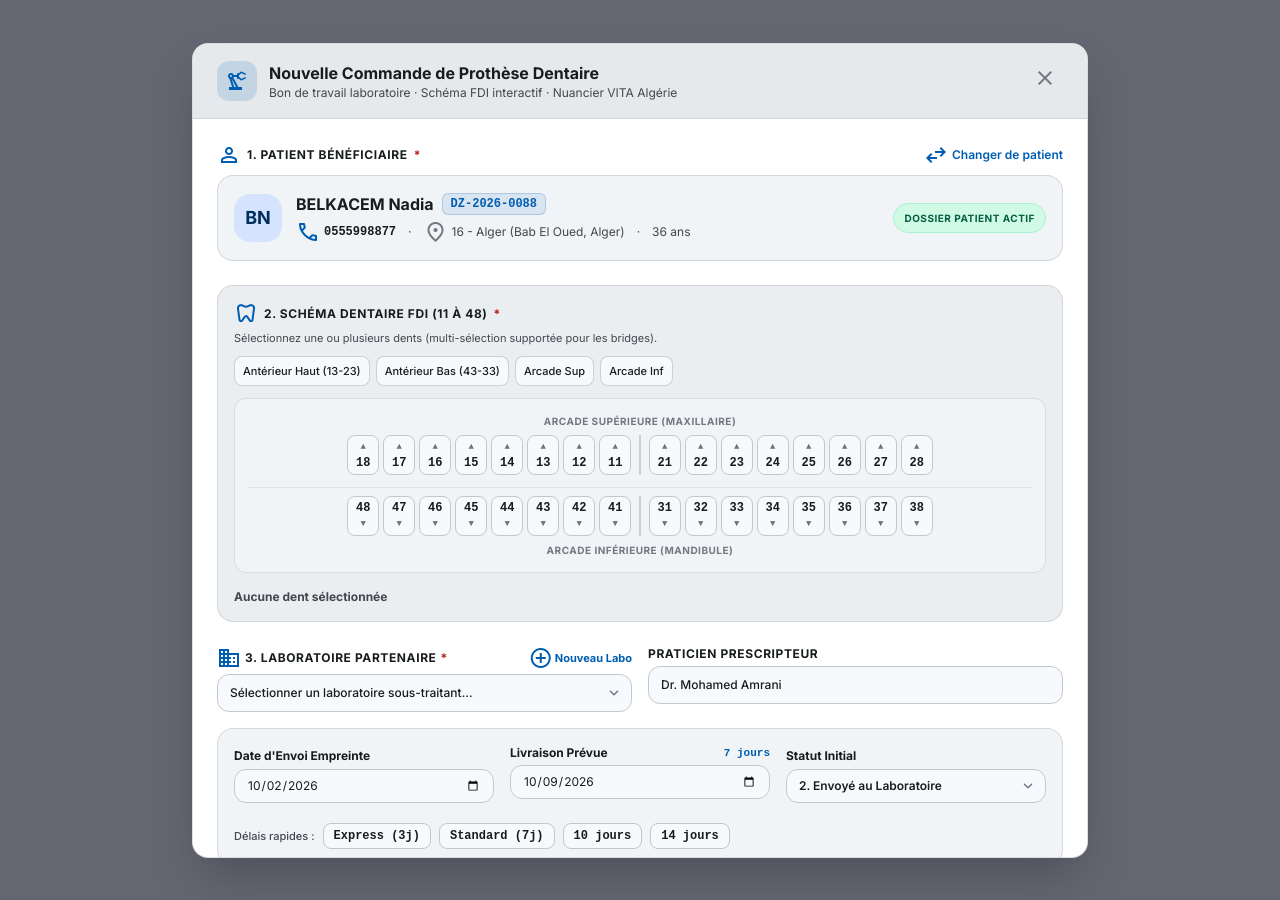
Test: Prompt 7: Prothesis Orders UX, FDI Tooth Selector, VITA Shade Guide & Auto Patient Retrieval › 2. Interactive FDI Tooth Selector (11-48) & Bridge Multi-Selection › allows selecting single tooth (e.g. 21) or multiple teeth (e.g. 14, 15, 16) for a bridge
Expected: the text "BELKACEM Nadia" is shown, [296,192,434,216]
// Click tooth 16
Click the button titled "Dent 16 (Cadran 1 - Haut Droit)": [435, 454] box [419,434,451,474]
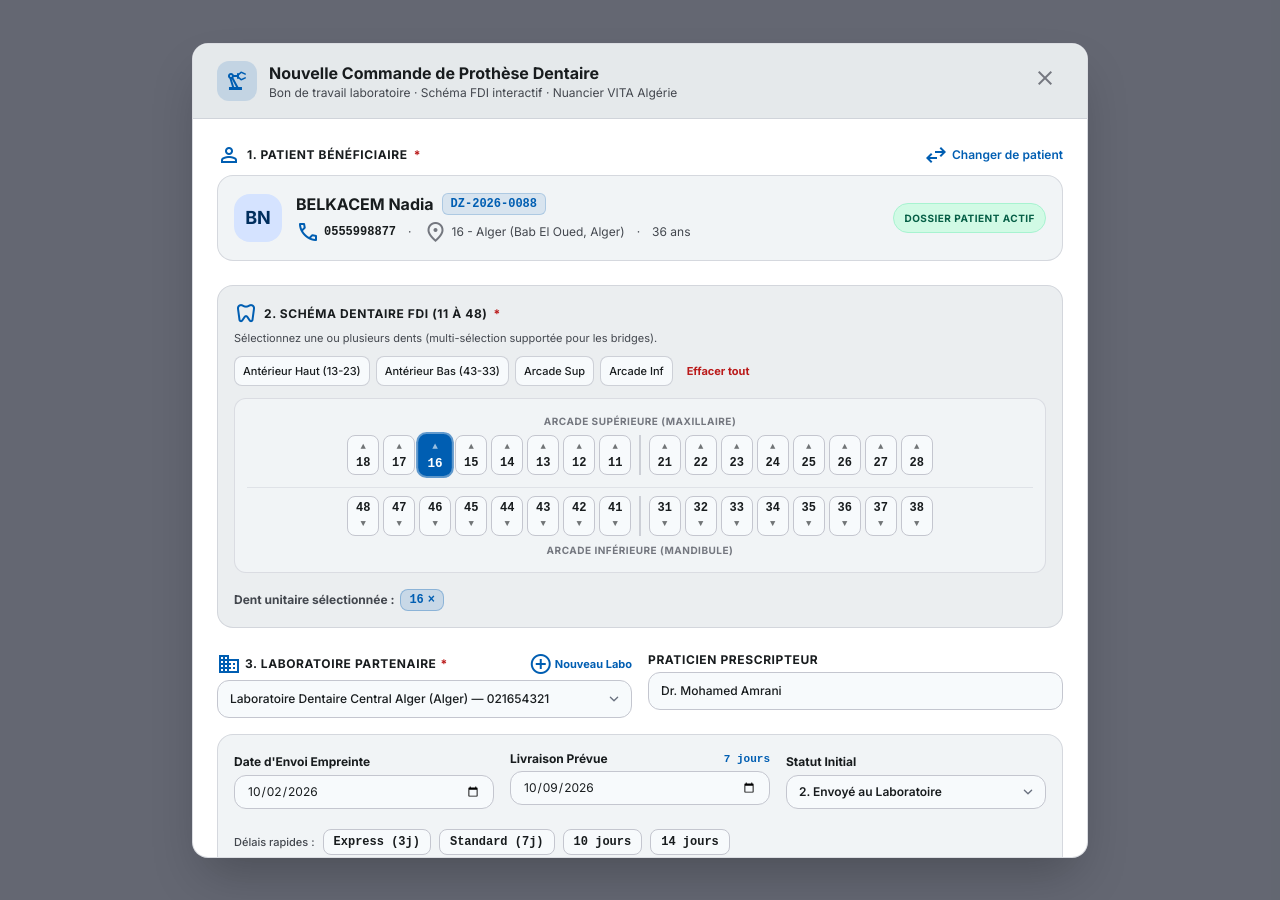
// Click tooth 15
Click the button titled "Dent 15 (Cadran 1 - Haut Droit)": [471, 454] box [455,434,487,474]
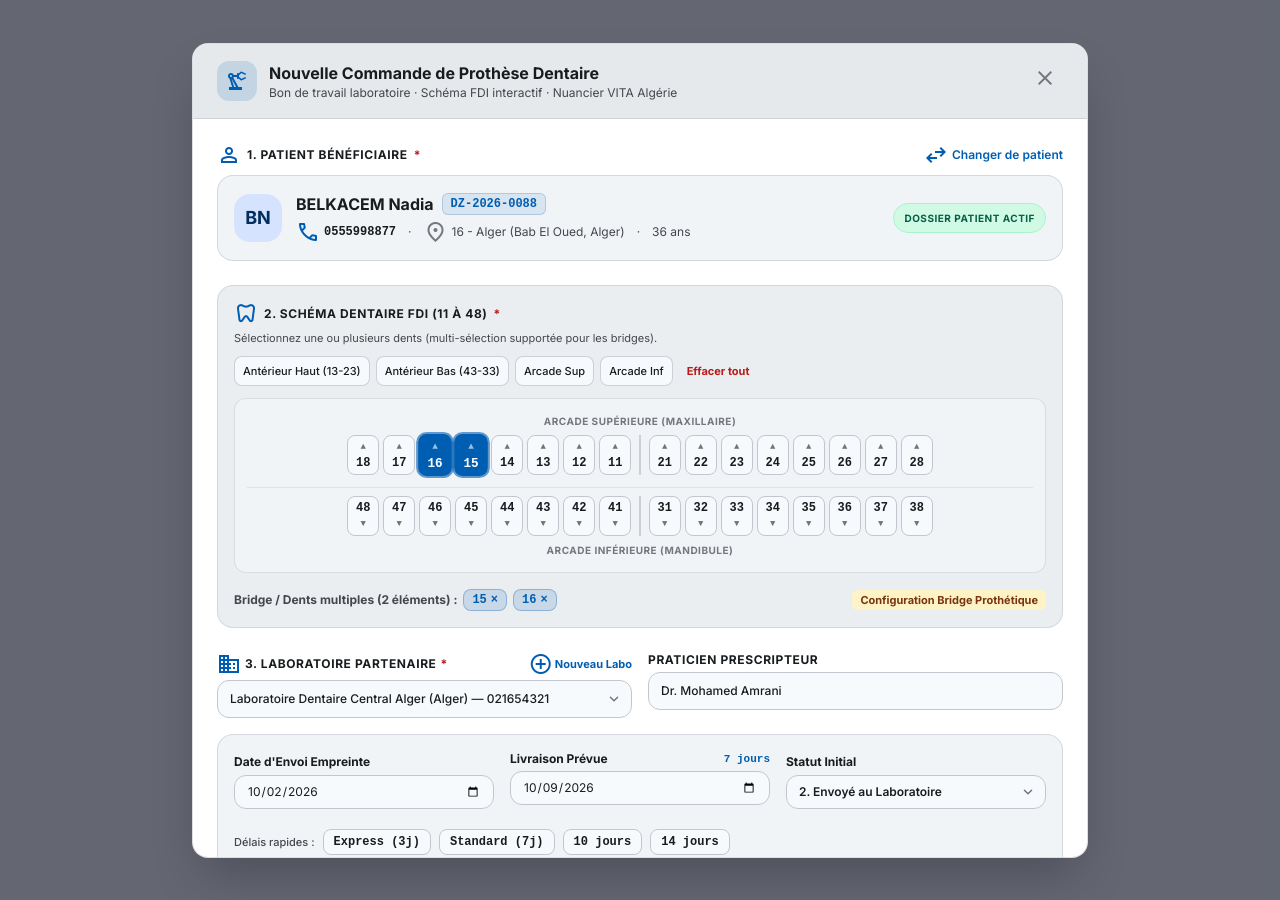
// Click tooth 14
Click the button titled "Dent 14 (Cadran 1 - Haut Droit)": [507, 454] box [491,434,523,474]
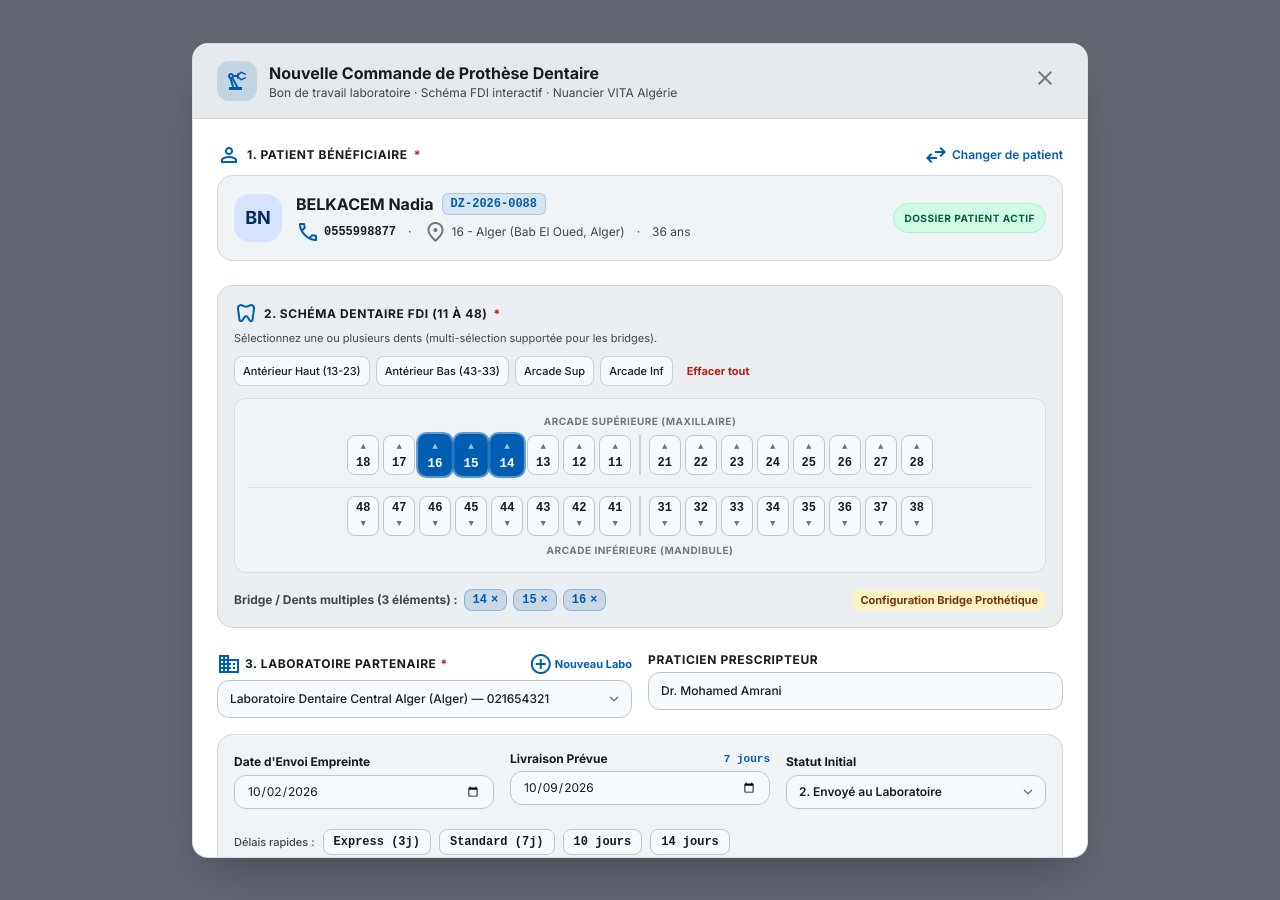
Expected: the text "Configuration Bridge Prothétique" is shown, [852,590,1046,610]
Expected: the text "Bridge / Dents multiples (3 éléments) :" is shown, [234,592,458,608]
